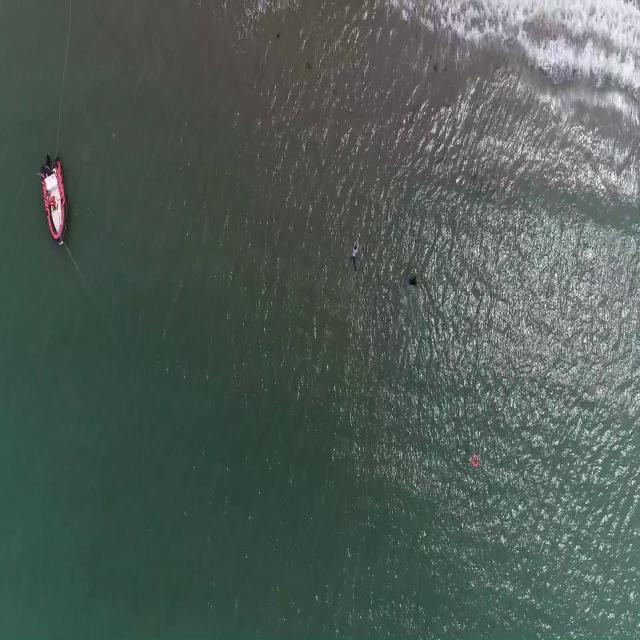boat: (38, 156, 68, 244)
life_buoy: (472, 453, 480, 468)
person: (349, 236, 362, 268), (409, 270, 418, 289)
